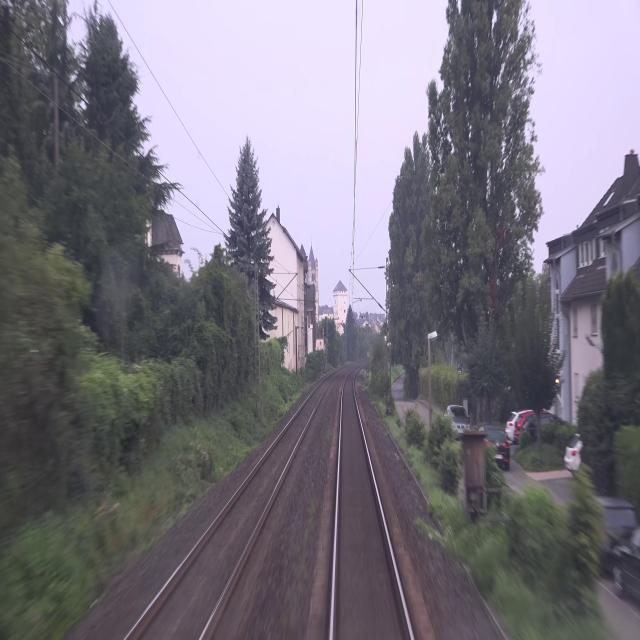rail-track: (128, 379, 328, 639), (334, 373, 409, 639)
